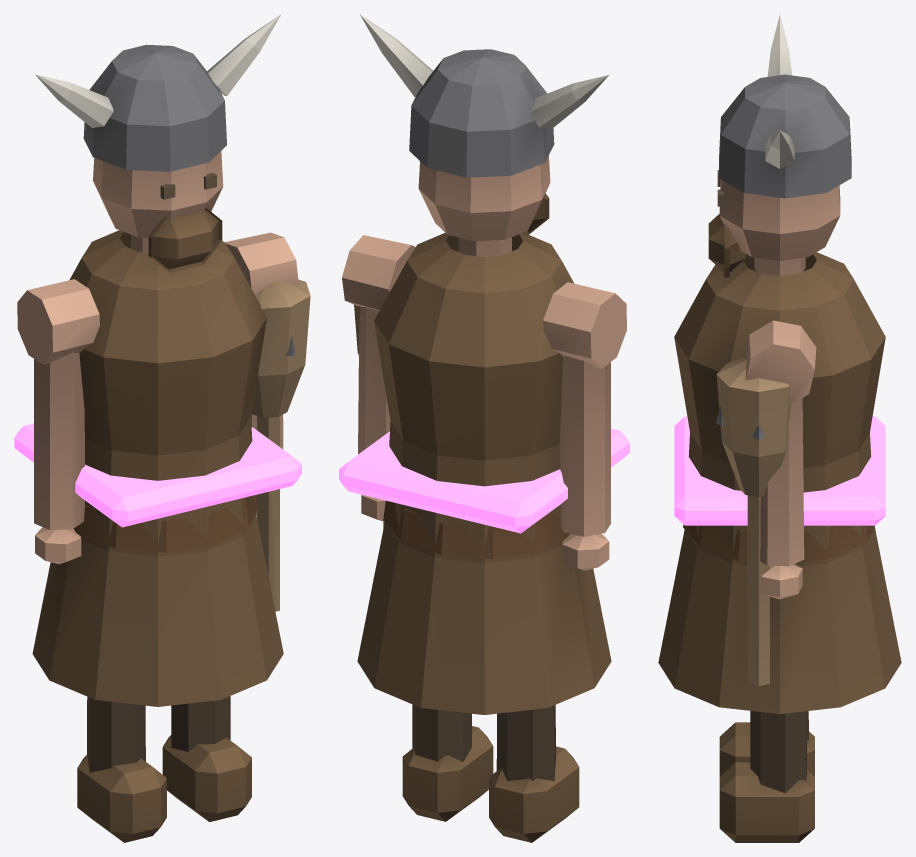
Rendered from enemy_raider.glb.
3 renders of one model, left to right at view 1: azimuth 30°, elevation 25°; view 2: azimuth 150°, elevation 25°; view 3: azimuth 270°, elevation 25°, orthographic. The views are drawn at different scales.
Parts seen in each view (by area): view 1: enemy_raider; view 2: enemy_raider; view 3: enemy_raider.
Part boxes in pixels (x1,y1,x2,y2): enemy_raider: (14, 14, 310, 842); enemy_raider: (339, 14, 629, 842); enemy_raider: (658, 15, 901, 842).
Size of the model in its own units: 0.2765 by 0.7759 by 0.23.
